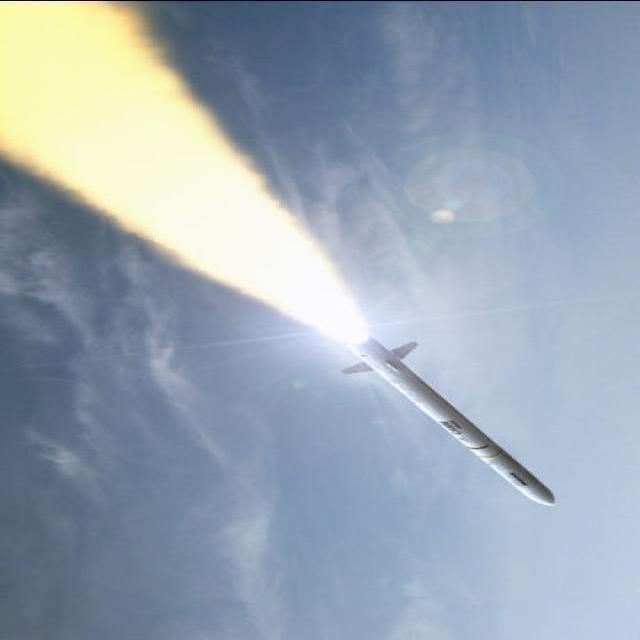missile: (352, 339, 558, 510)
